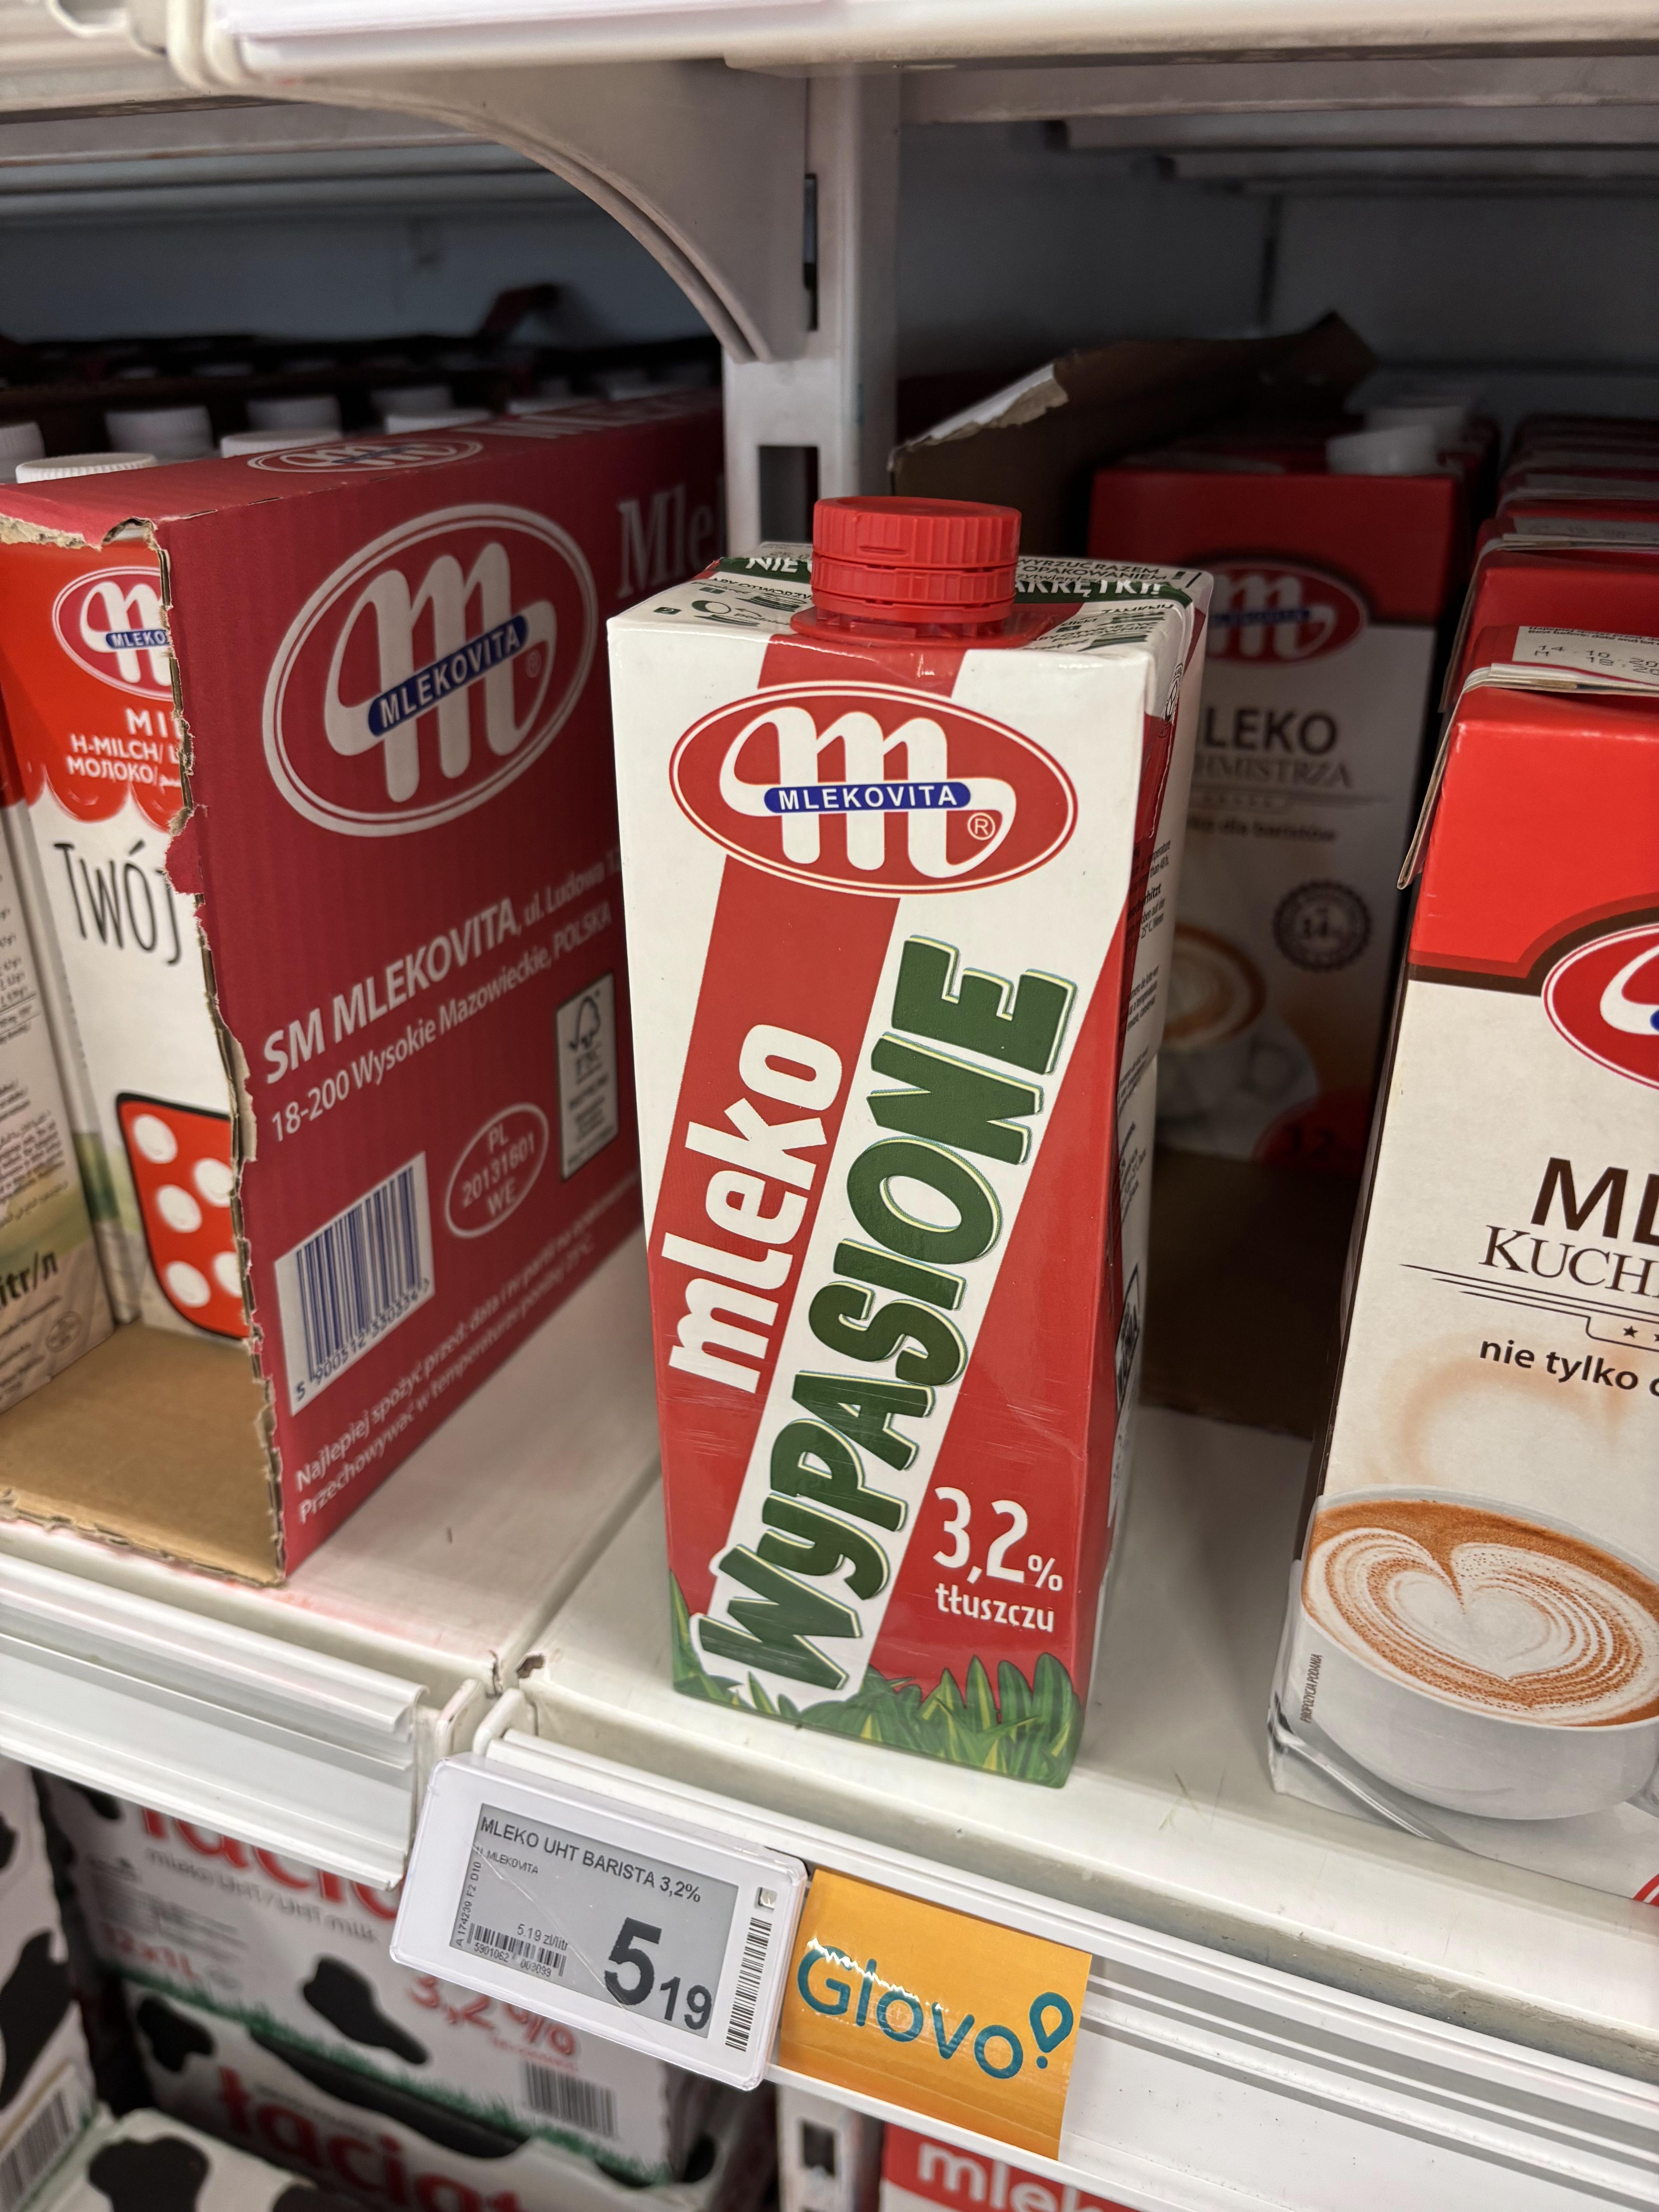Milk: (598, 580, 1147, 1794)
